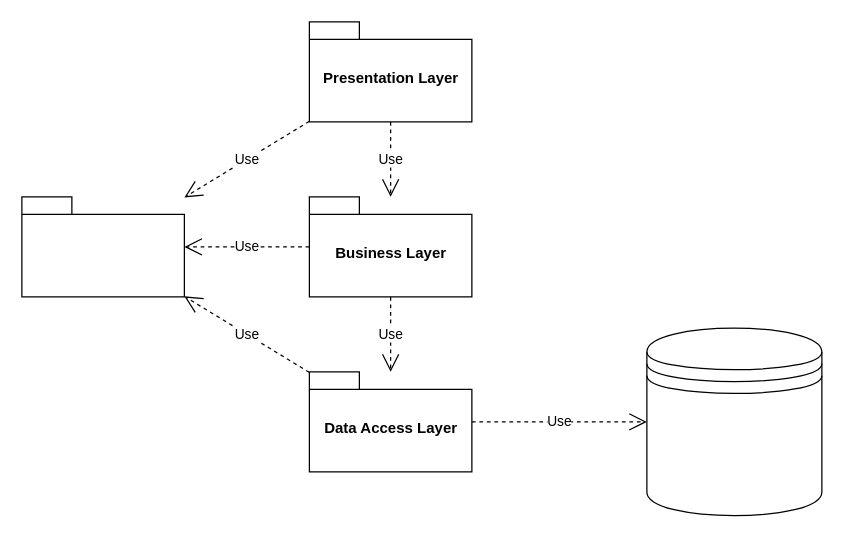
Some shapes in this 844 by 538 pixel diagram are drawn without their labels. Here are the shapes that lost their labels. From the top down, the centre of each, then its label:
the point at 102,246: Model
the point at 734,421: DB
